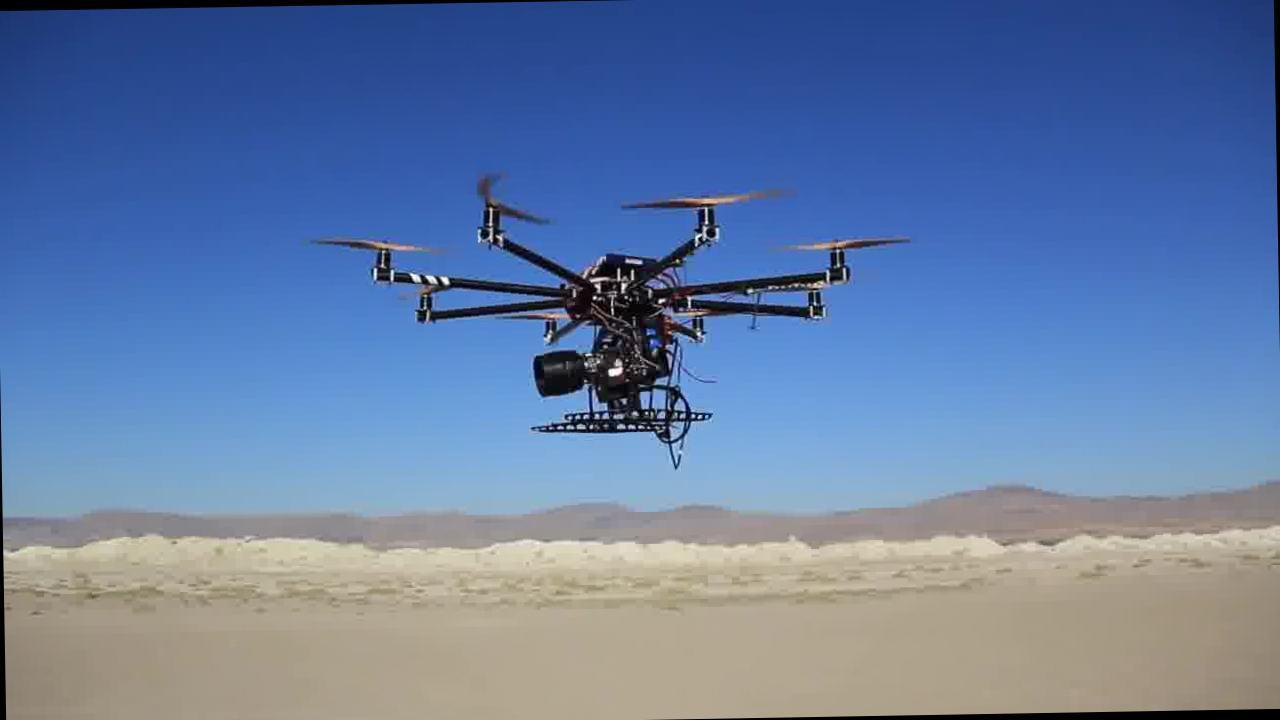drone: (312, 172, 909, 438)
